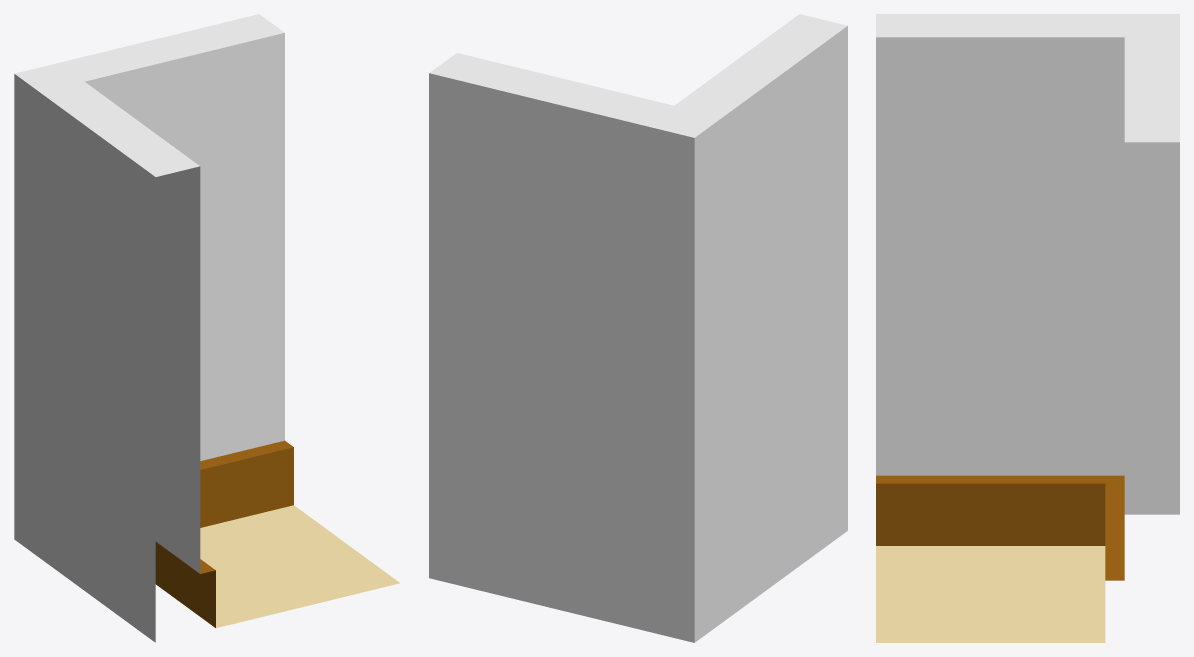
Rendered from E_Wall_L_Shape.fbx.
3 views of the same model, side by side, from view 1: azimuth 30°, elevation 25°; view 2: azimuth 150°, elevation 25°; view 3: azimuth 270°, elevation 25° (orthographic). The views are drawn at different scales.
Parts seen in each view (by area): view 1: E_Wall_L_Shape; view 2: E_Wall_L_Shape; view 3: E_Wall_L_Shape.
Part boxes in pixels (box(x1,y1,x2,y2)): E_Wall_L_Shape: box(14, 14, 399, 642); E_Wall_L_Shape: box(429, 14, 847, 642); E_Wall_L_Shape: box(876, 14, 1179, 642).
Bounding box in the file's own units: 110 × 200 × 110.
Materials: 1 (1 with a texture image).
